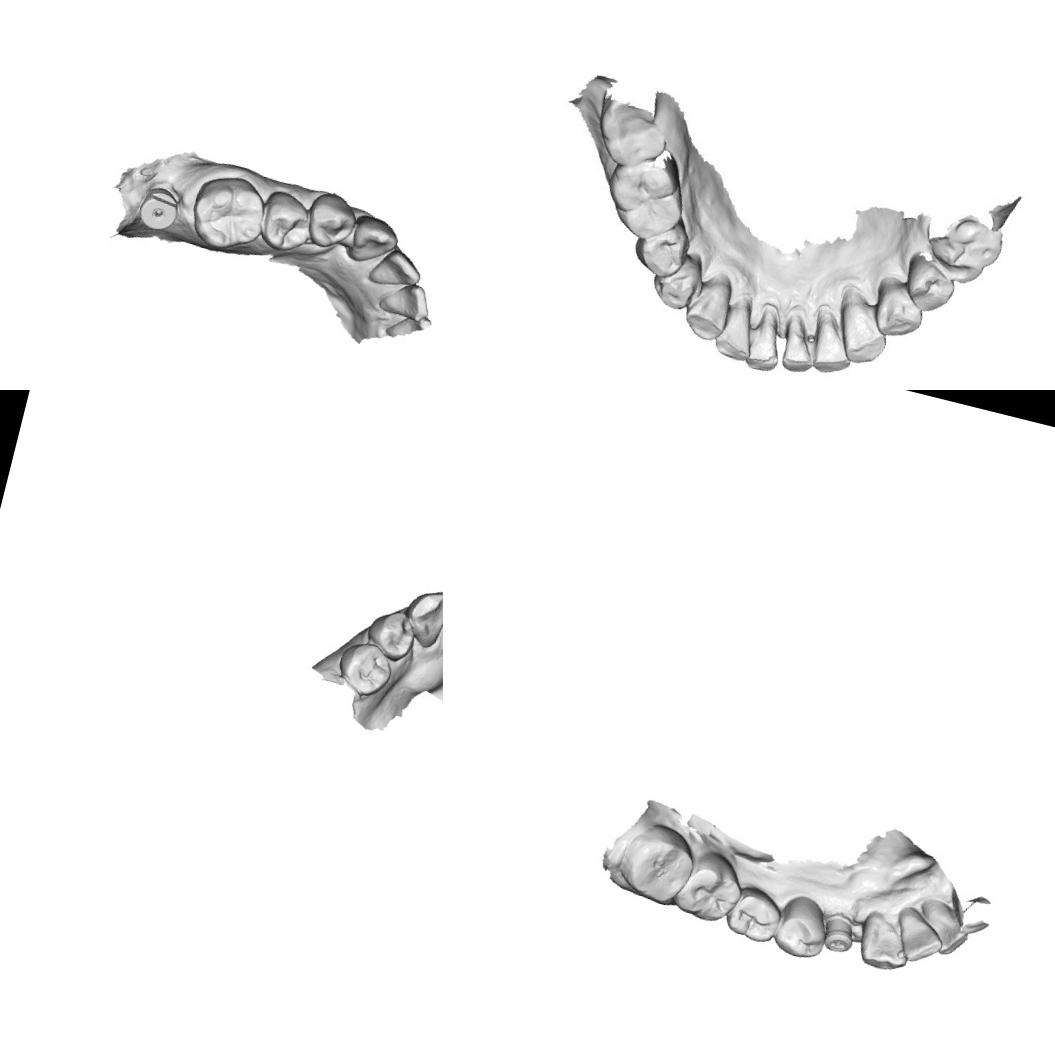canine: (829, 294, 895, 372), (676, 274, 736, 347), (344, 211, 403, 271), (396, 582, 443, 651)
implant: (134, 182, 184, 235)
implant_minus: (819, 912, 859, 958)
incisor: (909, 894, 977, 960), (852, 909, 918, 976), (887, 904, 949, 968), (738, 304, 786, 375), (710, 297, 758, 367), (366, 243, 427, 294), (806, 312, 854, 376), (376, 276, 436, 325), (772, 317, 817, 377)
molar: (597, 148, 695, 247), (611, 816, 703, 910), (182, 166, 274, 258), (925, 207, 1012, 295), (670, 843, 749, 928)
premolar: (768, 890, 836, 964), (642, 247, 711, 316), (253, 186, 318, 257), (721, 881, 788, 948), (331, 636, 397, 700), (300, 187, 362, 254), (627, 221, 691, 280), (360, 604, 420, 665), (903, 257, 958, 316), (874, 282, 926, 342)
